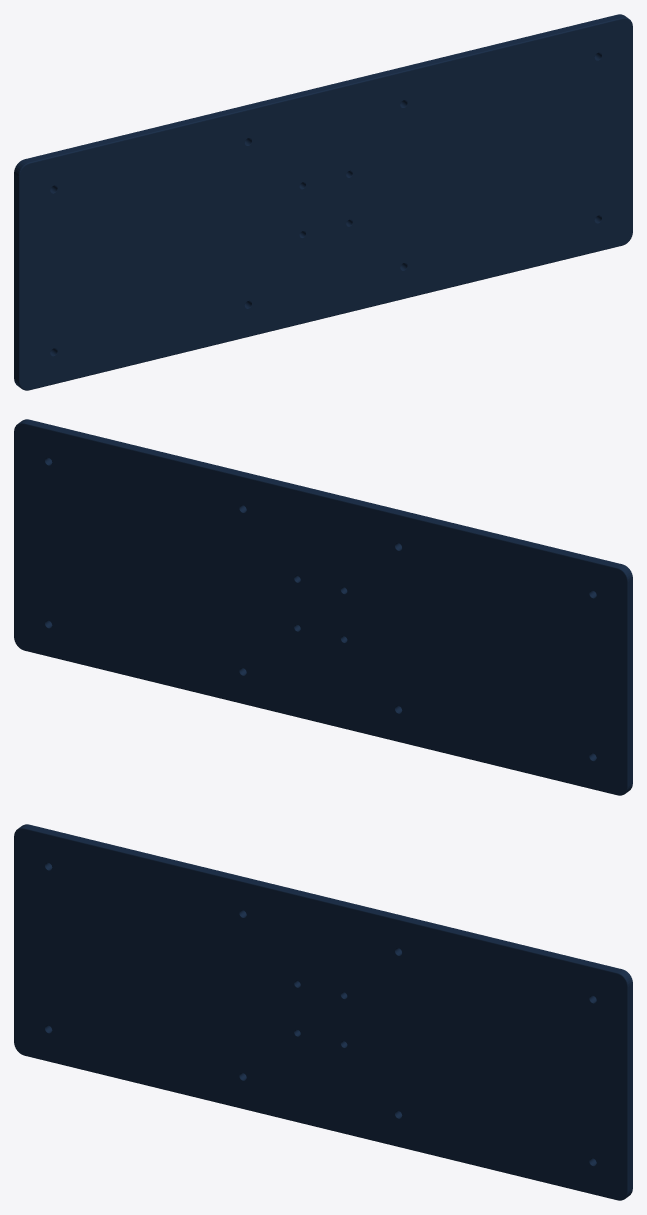
The model's file is omx_mounting_plate.obj.
3 views of the same model, one above another, from view 1: azimuth 30°, elevation 25°; view 2: azimuth 150°, elevation 25°; view 3: azimuth 330°, elevation 25° (orthographic).
Visible parts, largest first — view 1: OMX_Mounting_Plate.001; view 2: OMX_Mounting_Plate.001; view 3: OMX_Mounting_Plate.001.
Part boxes in pixels (box(x1,y1,x2,y2)): OMX_Mounting_Plate.001: box(14, 14, 632, 390); OMX_Mounting_Plate.001: box(14, 419, 632, 795); OMX_Mounting_Plate.001: box(14, 824, 632, 1200).
Size of the model in its own units: 0.395 by 0.14 by 0.006.
